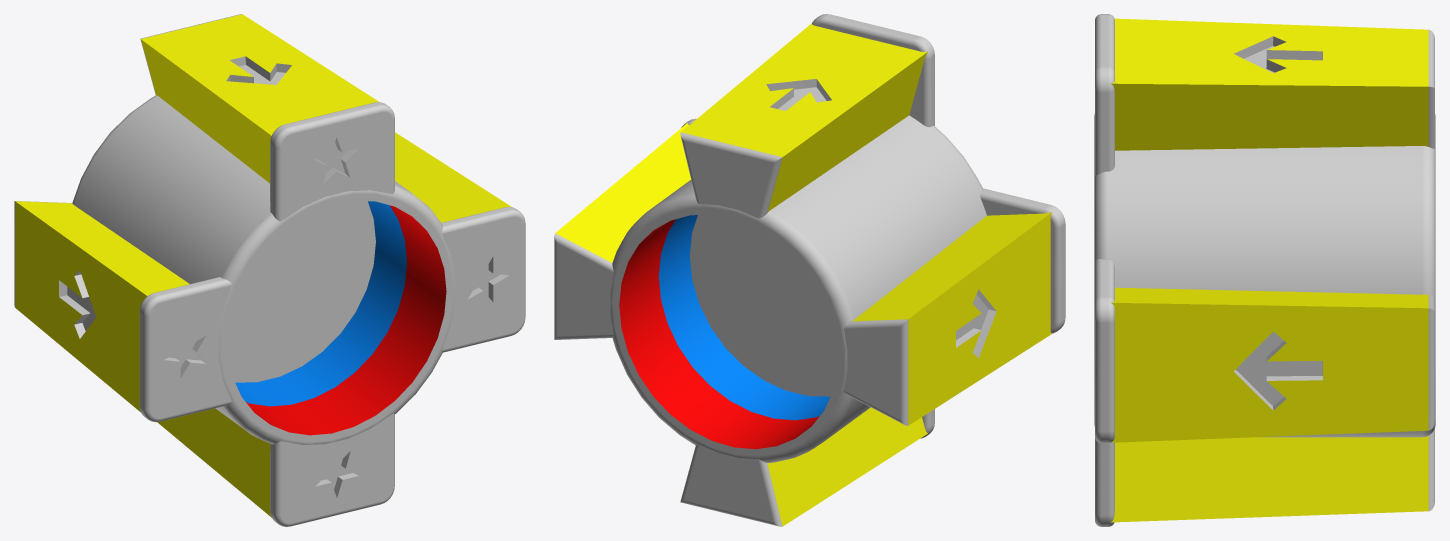
Rendered from end_to_end.glb.
3 renders of one model, left to right at view 1: azimuth 30°, elevation 25°; view 2: azimuth 150°, elevation 25°; view 3: azimuth 270°, elevation 25°, orthographic. The views are drawn at different scales.
Parts seen in each view (by area): view 1: Body5; view 2: Body5; view 3: Body5.
Boxes of the visible parts, x1=… form: Body5: x1=14, y1=14, x2=525, y2=526; Body5: x1=554, y1=14, x2=1065, y2=526; Body5: x1=1094, y1=14, x2=1435, y2=526.
Size of the model in its own units: 3.79 by 3.79 by 2.56.
